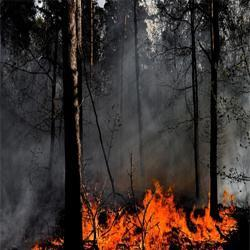fire: (149, 198, 182, 246), (103, 218, 140, 250), (186, 213, 225, 239), (82, 207, 99, 242)
